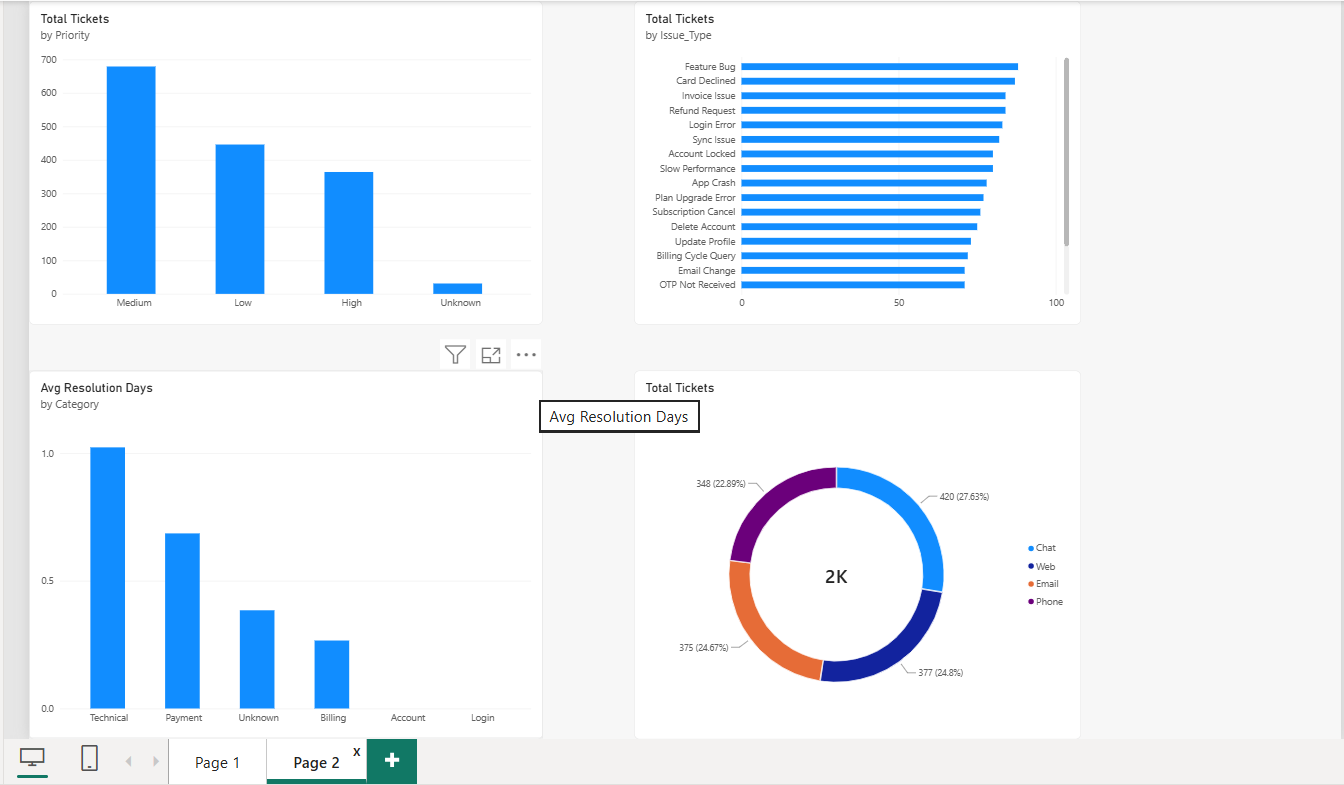

Layout of this report page (visuals, bound fields, positions):
{"tool":"powerbi","page":{"name":"Page 2","canvas":[1920,1080],"ordinal":1},"visuals":[{"type":"clusteredColumnChart","fields":{"Category":["SupportTickets.Category"],"Y":["SupportTickets.Avg Resolution Days"]},"box":[0,540,752,540],"z":0},{"type":"donutChart","fields":{"Category":["SupportTickets.Channel"],"Y":["SupportTickets.Total Tickets"]},"box":[886,540,654,540],"z":1},{"type":"clusteredColumnChart","fields":{"Category":["SupportTickets.Priority"],"Y":["SupportTickets.Total Tickets"]},"box":[0,0,752,474],"z":2},{"type":"clusteredBarChart","fields":{"Category":["SupportTickets.Issue_Type"],"Y":["SupportTickets.Total Tickets"]},"box":[886,0,654,474],"z":3}]}

Visuals, with their boxes on the page's 1920x1080 design canvas (x1, y1, x2, y2). These are canvas units, not pixel positions in the 1344x785 screenshot, which may show the page scaled, cropped or inside an application window:
clusteredColumnChart - SupportTickets.Category x SupportTickets.Avg Resolution Days: bbox(0, 540, 752, 1080)
donutChart - SupportTickets.Channel x SupportTickets.Total Tickets: bbox(886, 540, 1540, 1080)
clusteredColumnChart - SupportTickets.Priority x SupportTickets.Total Tickets: bbox(0, 0, 752, 474)
clusteredBarChart - SupportTickets.Issue_Type x SupportTickets.Total Tickets: bbox(886, 0, 1540, 474)
